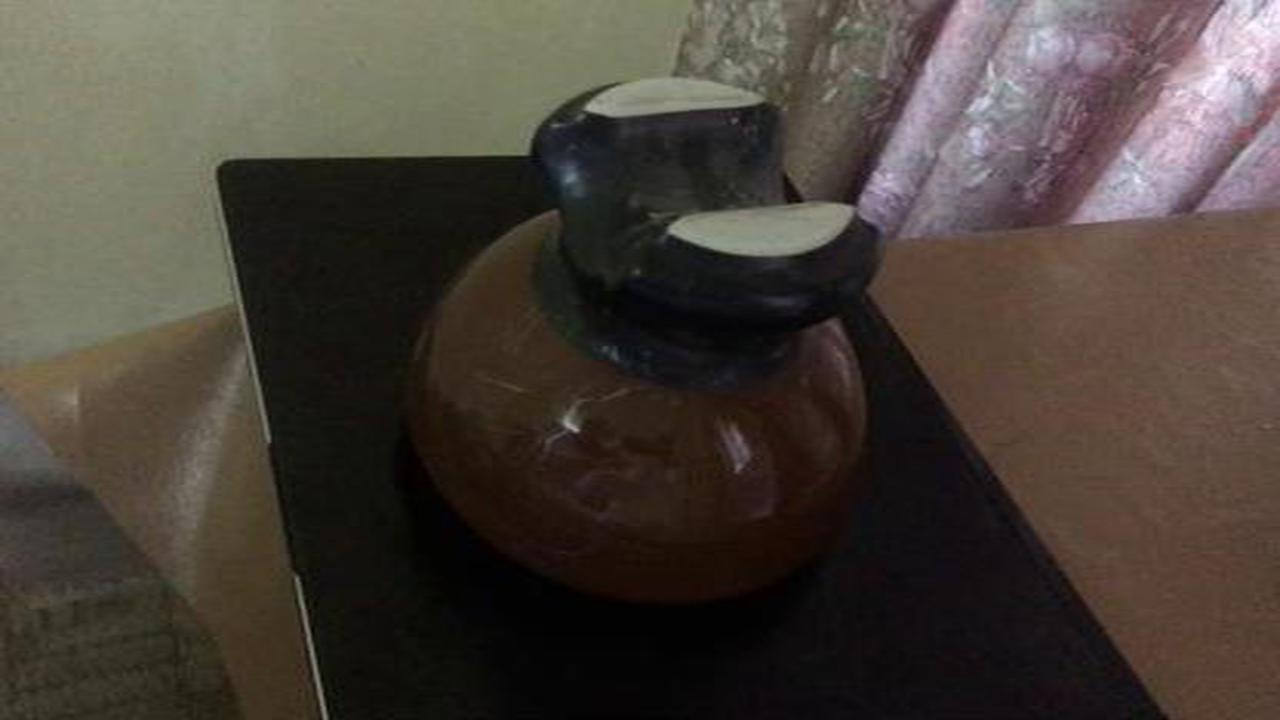insulator_pin: (388, 59, 917, 629)
